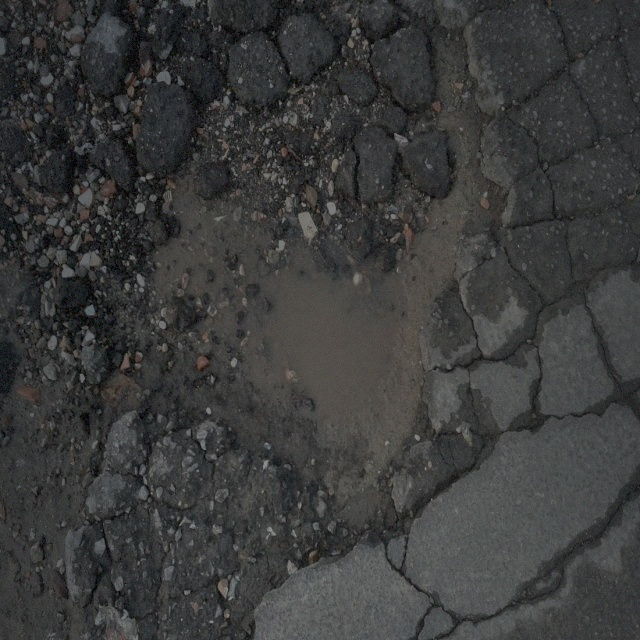pothole: (139, 38, 491, 552)
